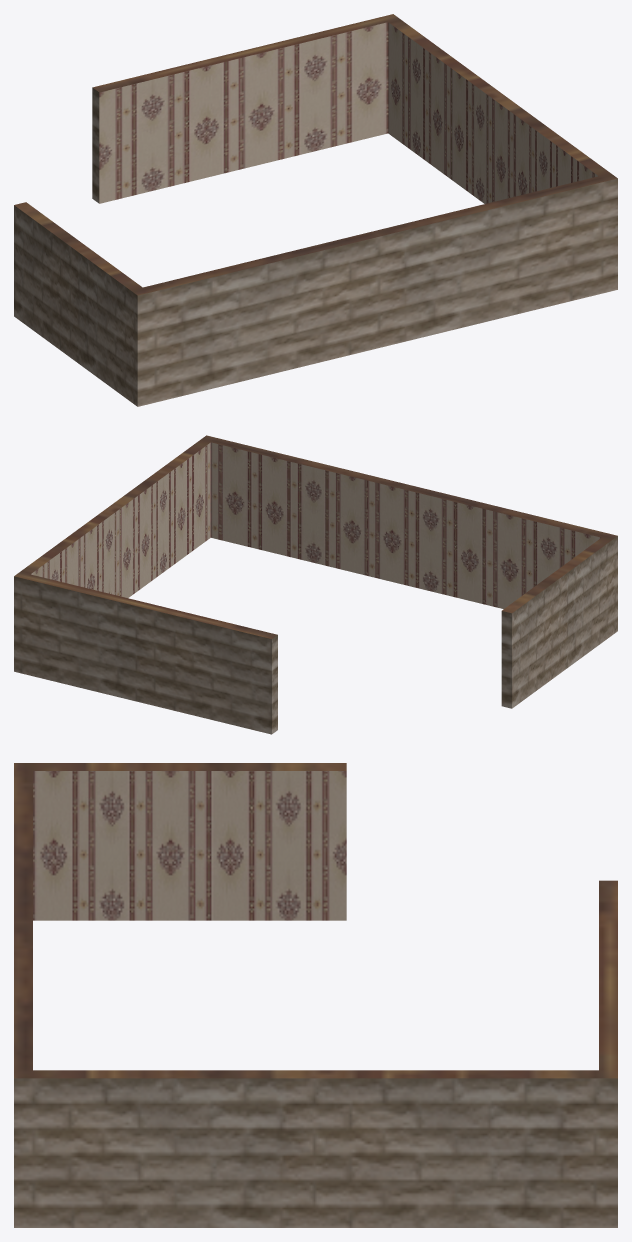
The model's file is outer_wall1.dae.
3 views of the same model, one above another, from view 1: azimuth 30°, elevation 25°; view 2: azimuth 150°, elevation 25°; view 3: azimuth 270°, elevation 25° (orthographic). The views are drawn at different scales.
Parts seen in each view (by area): view 1: Plane.008; view 2: Plane.008; view 3: Plane.008.
Part boxes in pixels (left/top/right/bottom): Plane.008: left=14, top=14, right=617, bottom=406; Plane.008: left=14, top=435, right=617, bottom=734; Plane.008: left=14, top=763, right=617, bottom=1227.
Bounding box in the file's own units: 15.8 × 12.8 × 3.5.
Materials: 1 (1 with a texture image).
